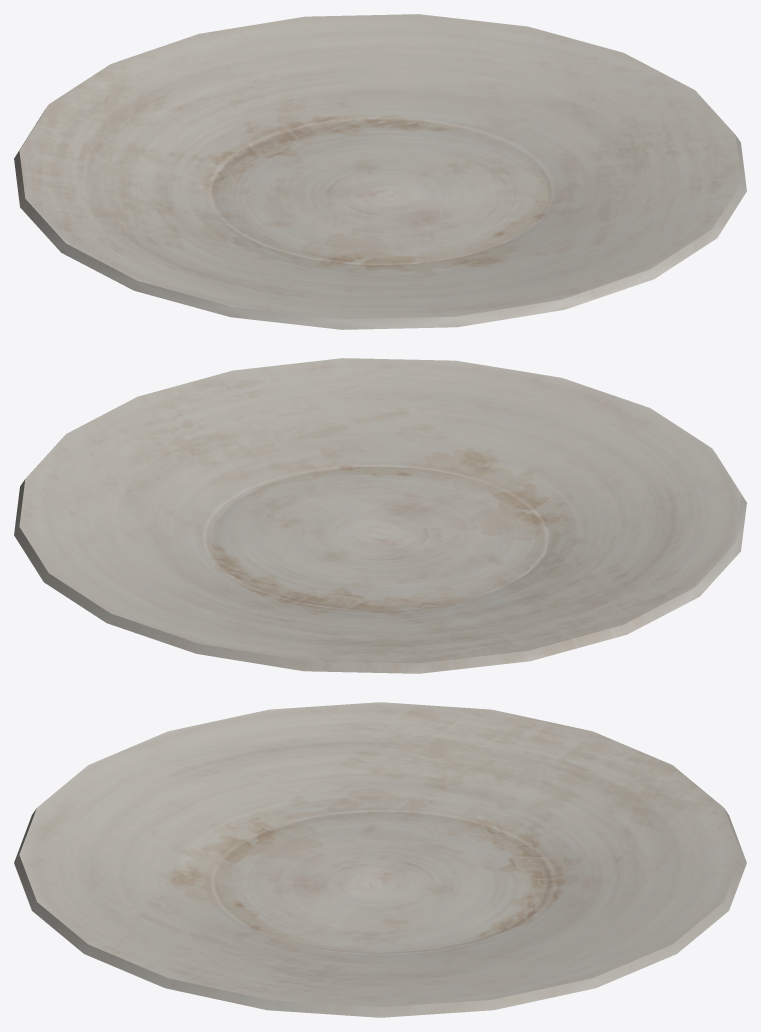
File: PlateRegular.fbx
The picture shows the model from 3 angles, top to bottom: view 1: azimuth 30°, elevation 25°; view 2: azimuth 150°, elevation 25°; view 3: azimuth 270°, elevation 25°; orthographic projection.
Visible parts, largest first — view 1: Default_Layer; view 2: Default_Layer; view 3: Default_Layer.
Part boxes in pixels (x1,y1,x2,y2): Default_Layer: [14, 14, 746, 329]; Default_Layer: [14, 358, 746, 673]; Default_Layer: [14, 702, 746, 1017].
Bounding box in the file's own units: 82.14 × 5.6 × 82.14.
